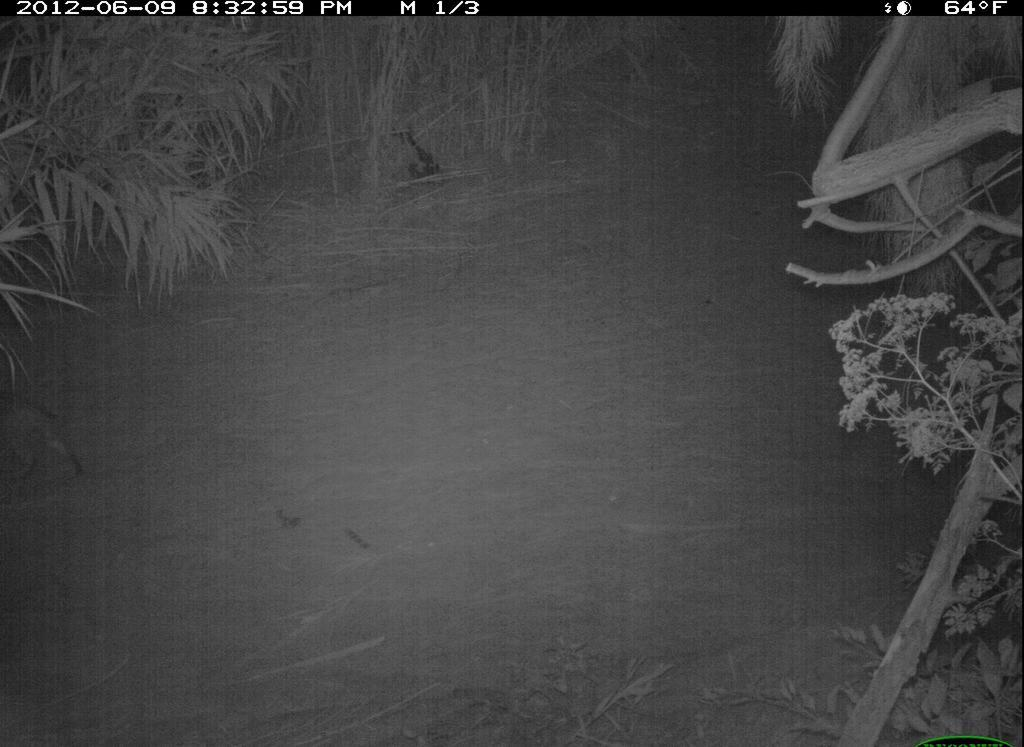bobcat: (7, 391, 80, 546)
